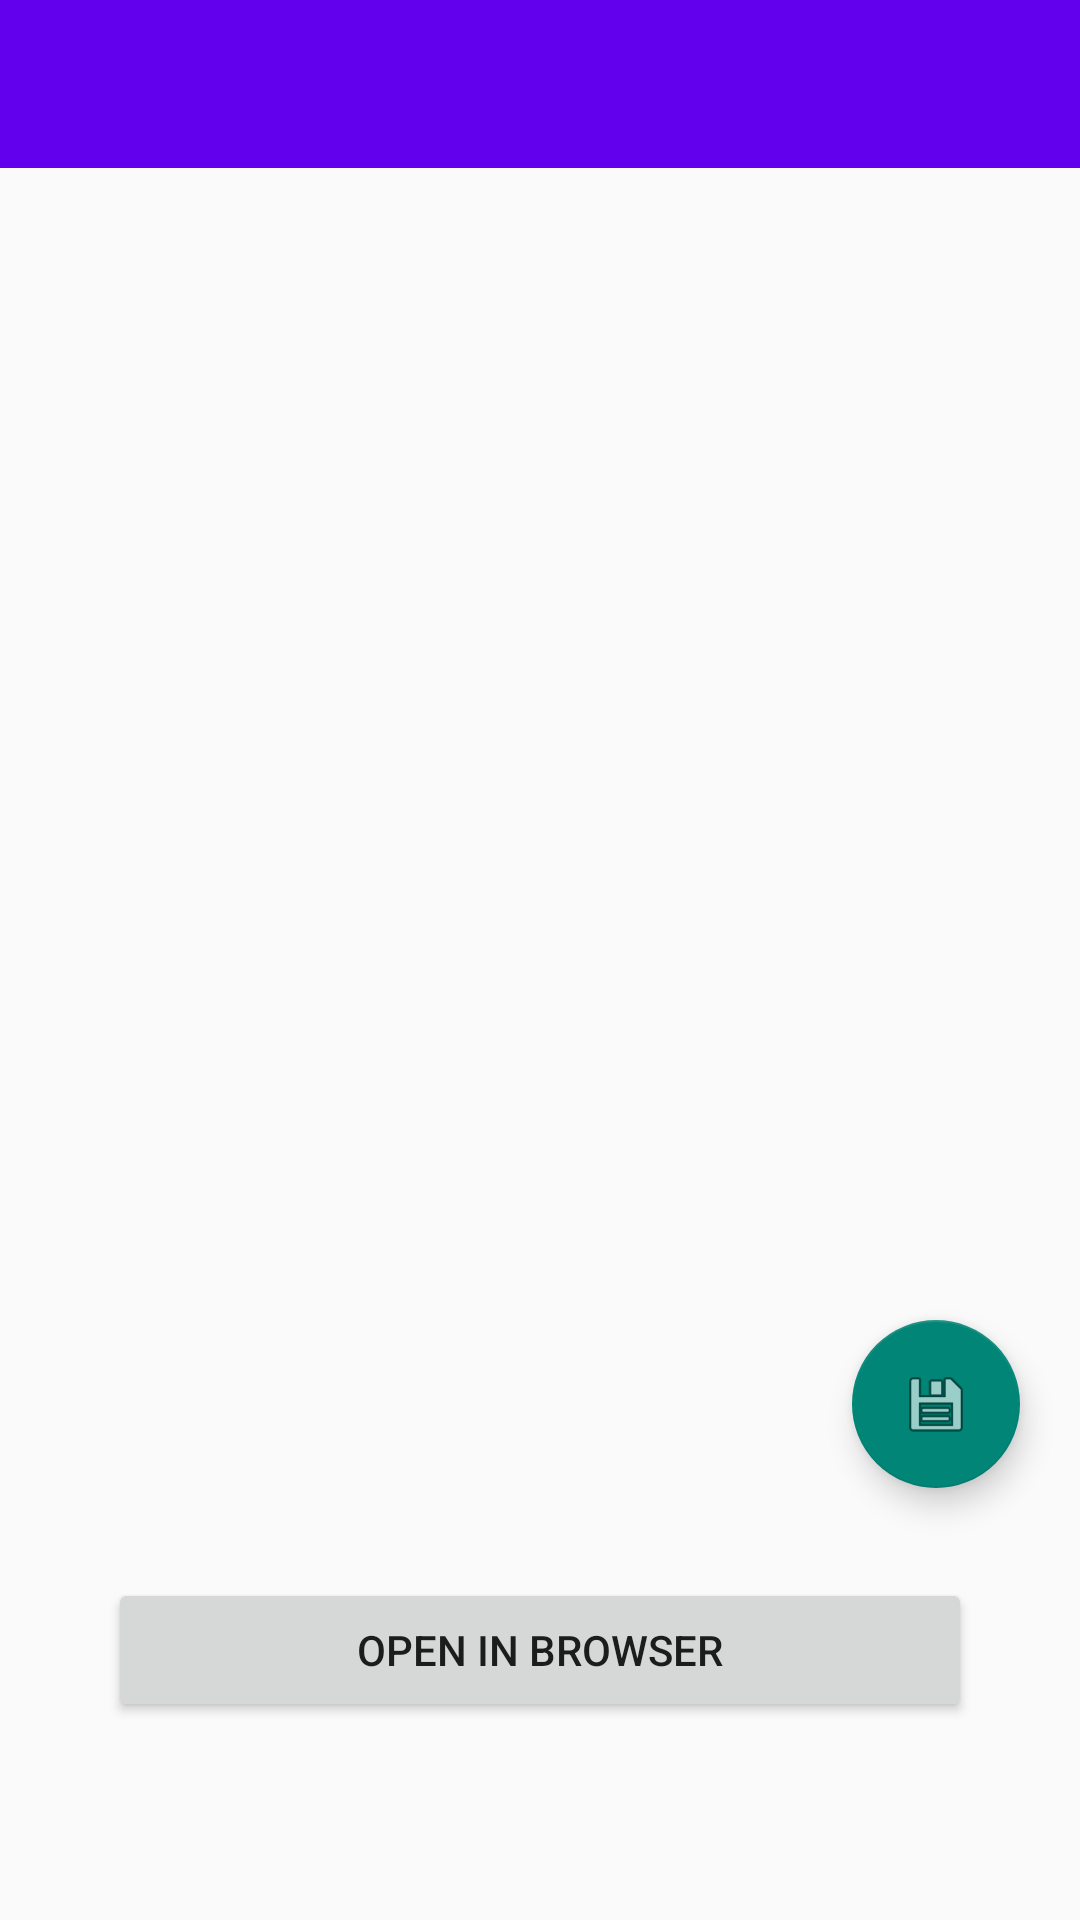

Icons on this 1080px×1920px Android screen, each with its box as (x1, y1, x2, y2):
Save: (852, 1320, 1020, 1488)
